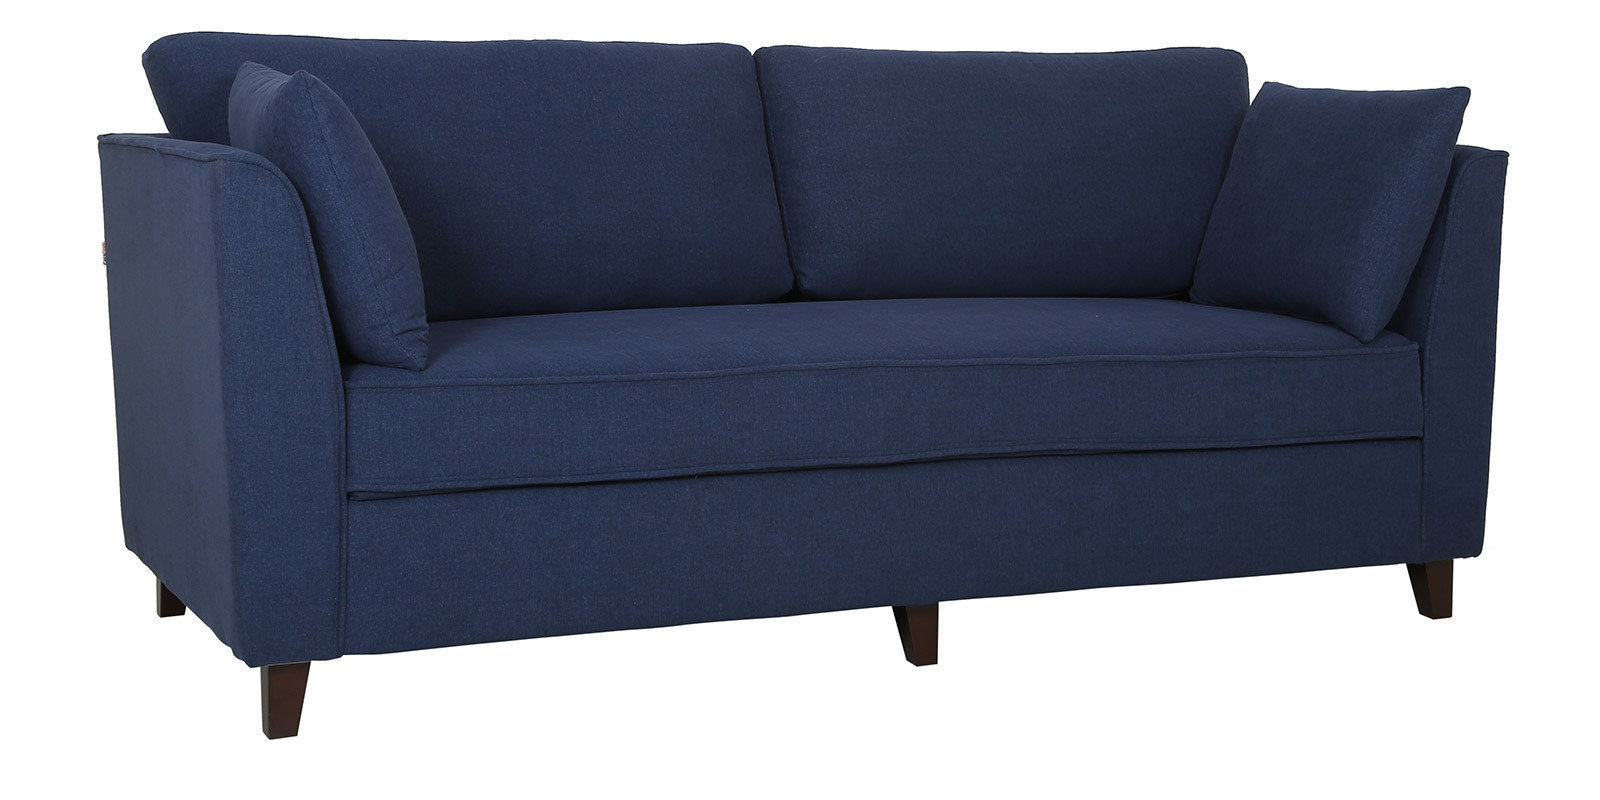Miranda Three Seater Sofa in Navy Blue Colour by CasaCraft: (97, 34, 1508, 741)
